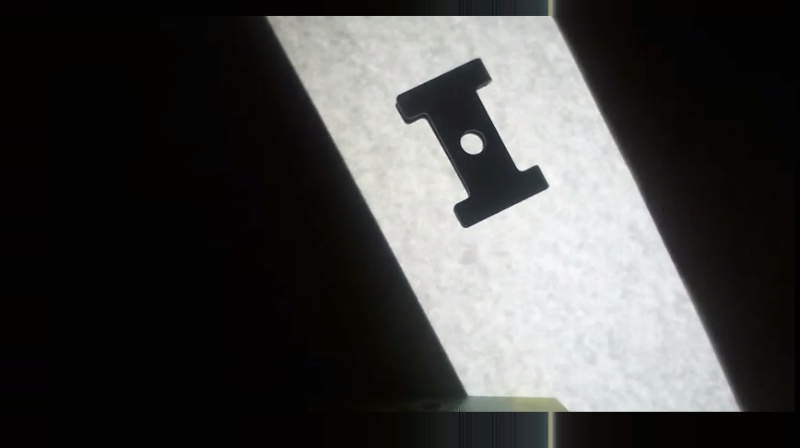O002: (393, 56, 552, 230)
